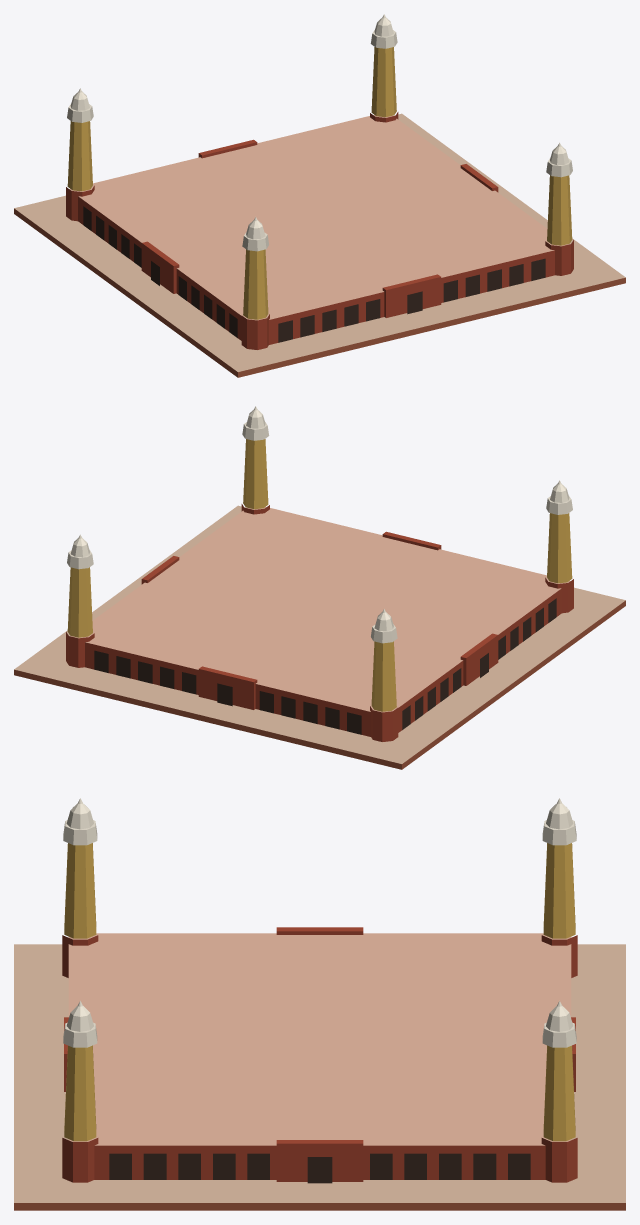
Rendered from tomb_of_jahangir_far.glb.
The picture shows the model from 3 angles, top to bottom: view 1: azimuth 30°, elevation 25°; view 2: azimuth 150°, elevation 25°; view 3: azimuth 270°, elevation 25°; orthographic projection. The views are drawn at different scales.
Visible parts, largest first — view 1: m_far_roof, m_far_terrace, m_far_wall, m_far_shaft, m_far_arch, m_far_red, m_far_white; view 2: m_far_roof, m_far_terrace, m_far_wall, m_far_shaft, m_far_arch, m_far_red, m_far_white; view 3: m_far_roof, m_far_terrace, m_far_wall, m_far_shaft, m_far_arch, m_far_red, m_far_white.
Part boxes in pixels (left/top/right/bottom): m_far_roof: left=69, top=114, right=568, bottom=320; m_far_terrace: left=14, top=113, right=625, bottom=371; m_far_wall: left=66, top=112, right=573, bottom=349; m_far_shaft: left=67, top=47, right=572, bottom=319; m_far_arch: left=83, top=206, right=545, bottom=342; m_far_red: left=14, top=208, right=625, bottom=377; m_far_white: left=67, top=14, right=572, bottom=251; m_far_roof: left=71, top=506, right=570, bottom=712; m_far_terrace: left=14, top=505, right=625, bottom=763; m_far_wall: left=66, top=504, right=573, bottom=741; m_far_shaft: left=67, top=439, right=572, bottom=711; m_far_arch: left=94, top=598, right=556, bottom=734; m_far_red: left=14, top=600, right=625, bottom=769; m_far_white: left=67, top=406, right=572, bottom=643; m_far_roof: left=68, top=933, right=571, bottom=1145; m_far_terrace: left=14, top=944, right=625, bottom=1202; m_far_wall: left=62, top=927, right=577, bottom=1182; m_far_shaft: left=64, top=843, right=575, bottom=1141; m_far_arch: left=109, top=1153, right=530, bottom=1183; m_far_red: left=14, top=1203, right=625, bottom=1210; m_far_white: left=63, top=798, right=576, bottom=1047.
Size of the model in its own units: 93 by 30.5 by 93.
